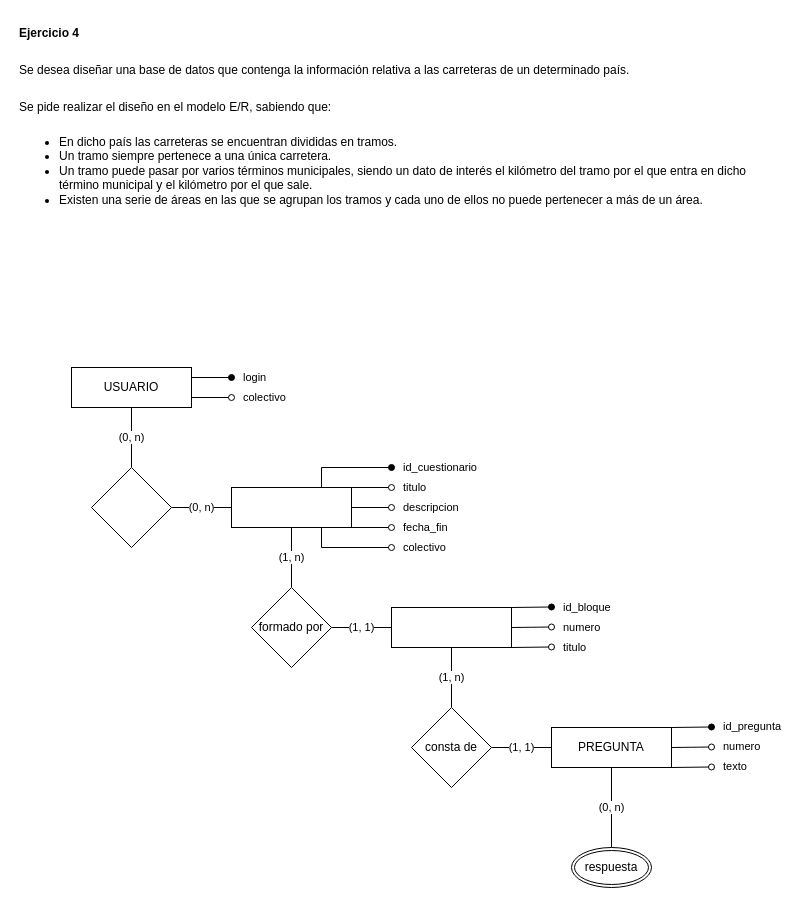
This 799x905 diagram has some shape labels left out. Each missing label, with the box of its shape:
BLOQUE: (390, 606, 512, 648)
CUESTIONARIO: (230, 486, 352, 528)
ha rellenado: (90, 466, 172, 548)
